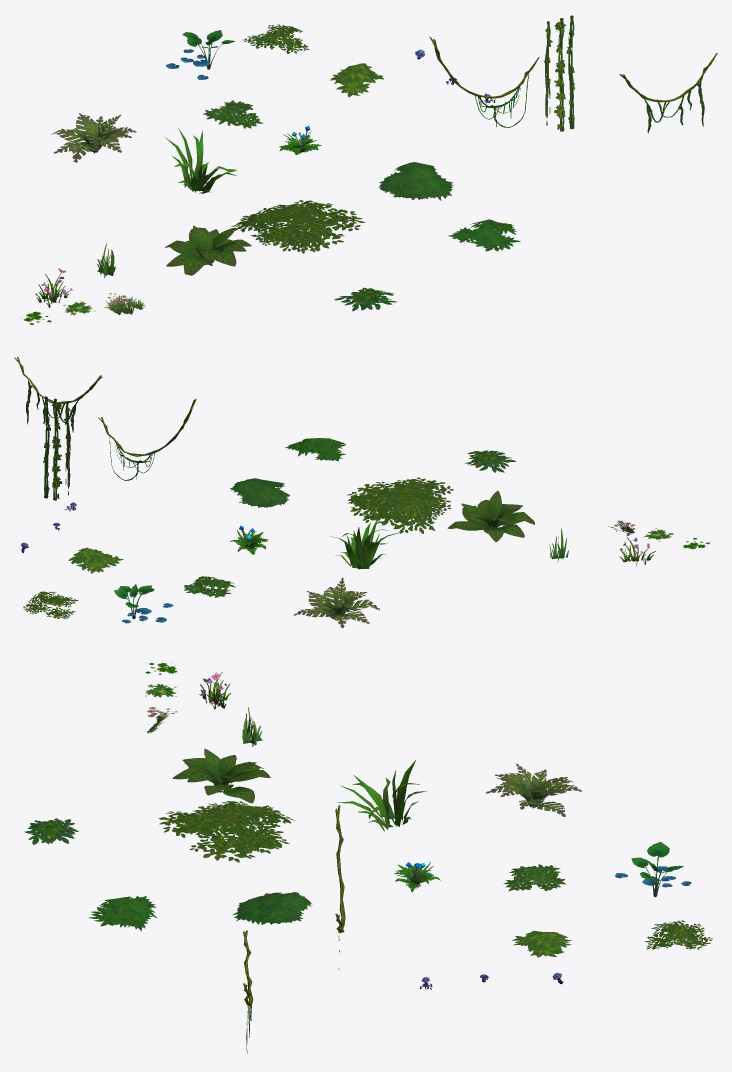
Rendered from ZhiBeisuoyou.FBX.
3 renders of one model, top to bottom at view 1: azimuth 30°, elevation 25°; view 2: azimuth 150°, elevation 25°; view 3: azimuth 270°, elevation 25°, orthographic. The views are drawn at different scales.
Parts seen in each view (by area): view 1: 014, 015, 011, 013, 002, 012, 021, 022, 007, 009, 003, 001 (+5 smaller); view 2: 014, 015, 011, 002, 013, 012, 021, 022, 007, 008, 003, 001 (+3 smaller); view 3: 014, 015, 011, 013, 012, 021, 022, 009, 008, 007, Object212, 010.
Part boxes in pixels (x1=…): 014: x1=231, y1=200, x2=365, y2=253; 015: x1=165, y1=225, x2=251, y2=275; 011: x1=51, y1=113, x2=136, y2=162; 013: x1=378, y1=162, x2=453, y2=200; 002: x1=544, y1=15, x2=574, y2=131; 012: x1=165, y1=128, x2=236, y2=193; 021: x1=448, y1=219, x2=520, y2=251; 022: x1=242, y1=24, x2=309, y2=53; 007: x1=330, y1=63, x2=383, y2=97; 009: x1=203, y1=100, x2=263, y2=128; 003: x1=429, y1=36, x2=539, y2=127; 001: x1=619, y1=53, x2=717, y2=133; 014: x1=347, y1=477, x2=453, y2=533; 015: x1=447, y1=490, x2=534, y2=541; 011: x1=293, y1=577, x2=379, y2=627; 002: x1=43, y1=396, x2=70, y2=500; 013: x1=230, y1=478, x2=290, y2=507; 012: x1=330, y1=517, x2=400, y2=569; 021: x1=285, y1=437, x2=345, y2=461; 022: x1=22, y1=591, x2=78, y2=619; 007: x1=68, y1=547, x2=123, y2=573; 008: x1=114, y1=584, x2=173, y2=623; 003: x1=98, y1=398, x2=196, y2=480; 001: x1=14, y1=357, x2=102, y2=432; 014: x1=159, y1=801, x2=294, y2=862; 015: x1=172, y1=748, x2=270, y2=803; 011: x1=485, y1=763, x2=581, y2=816; 013: x1=232, y1=892, x2=312, y2=924; 012: x1=337, y1=760, x2=426, y2=831; 021: x1=89, y1=896, x2=157, y2=931; 022: x1=644, y1=920, x2=712, y2=949; 009: x1=503, y1=864, x2=565, y2=891; 008: x1=615, y1=842, x2=691, y2=896; 007: x1=512, y1=930, x2=571, y2=957; Object212: x1=25, y1=818, x2=78, y2=844; 010: x1=394, y1=862, x2=440, y2=891.
Bounding box in the file's own units: 5.43 × 4.13 × 0.993.
